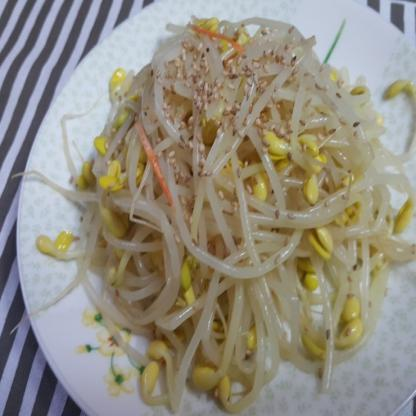bean sprouts: (116, 20, 400, 375)
